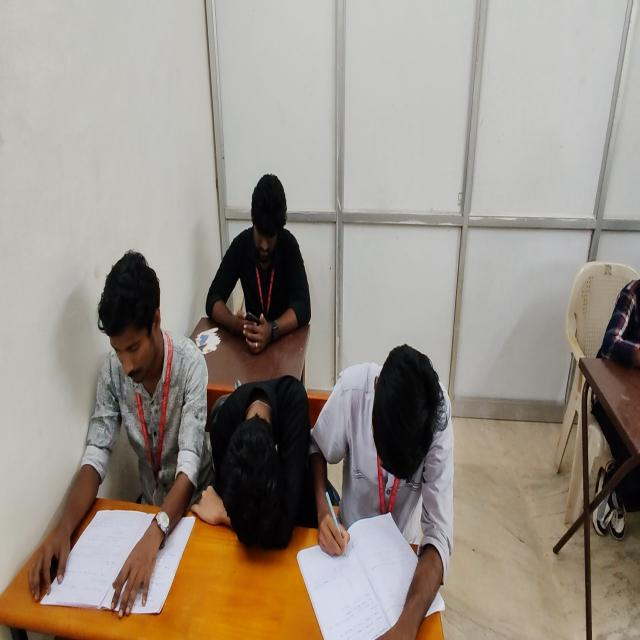reading: (27, 250, 215, 621), (303, 344, 453, 639)
sleeping: (204, 370, 328, 552)
using_mobile: (204, 174, 311, 352)
